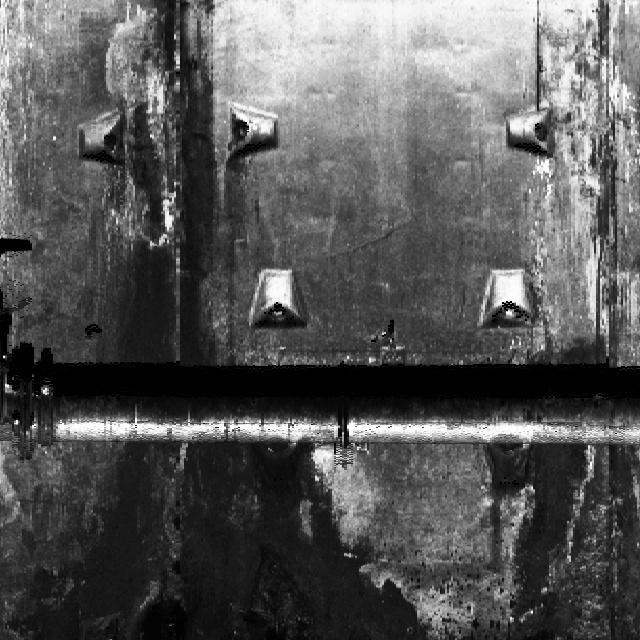leakage: (13, 434, 429, 639), (99, 0, 233, 364), (478, 430, 639, 639), (528, 330, 639, 368)
